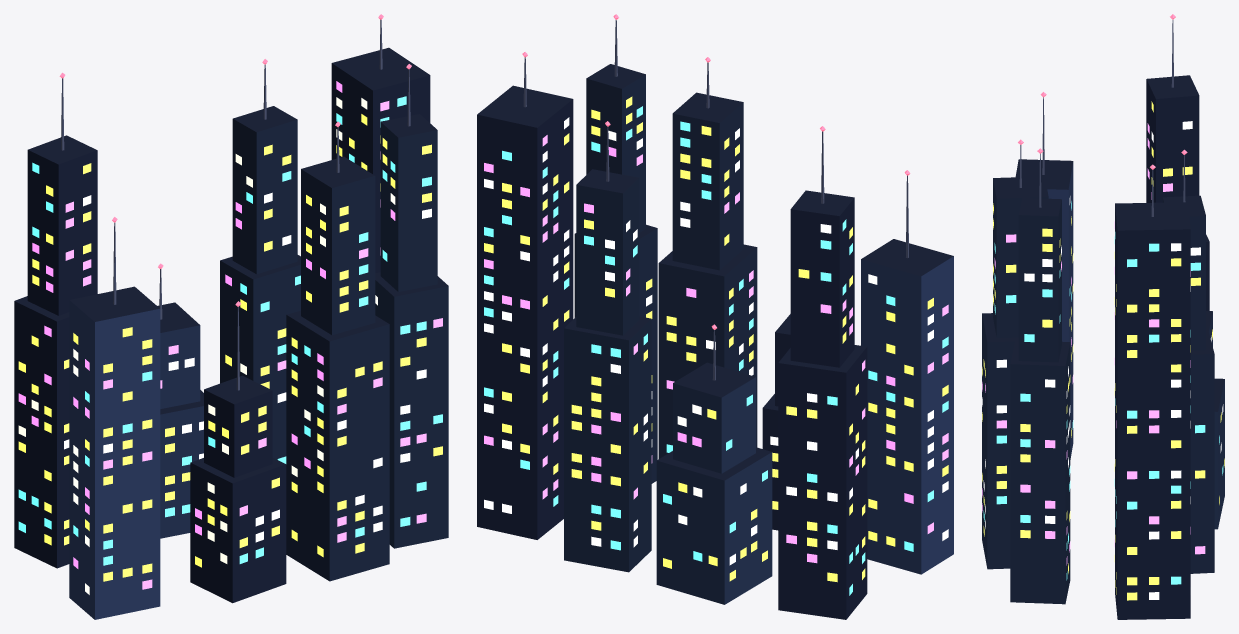
File: W1_Mid_TowersA.fbx
3 views of the same model, side by side, from view 1: azimuth 30°, elevation 25°; view 2: azimuth 150°, elevation 25°; view 3: azimuth 270°, elevation 25° (orthographic). The views are drawn at different scales.
Visible parts, largest first — view 1: W1_Mid_TowersA; view 2: W1_Mid_TowersA; view 3: W1_Mid_TowersA.
Boxes of the visible parts, x1=… form: W1_Mid_TowersA: x1=14, y1=14, x2=448, y2=619; W1_Mid_TowersA: x1=477, y1=14, x2=953, y2=619; W1_Mid_TowersA: x1=982, y1=14, x2=1224, y2=619.
Size of the model in its own units: 91.26 by 107 by 52.27.
